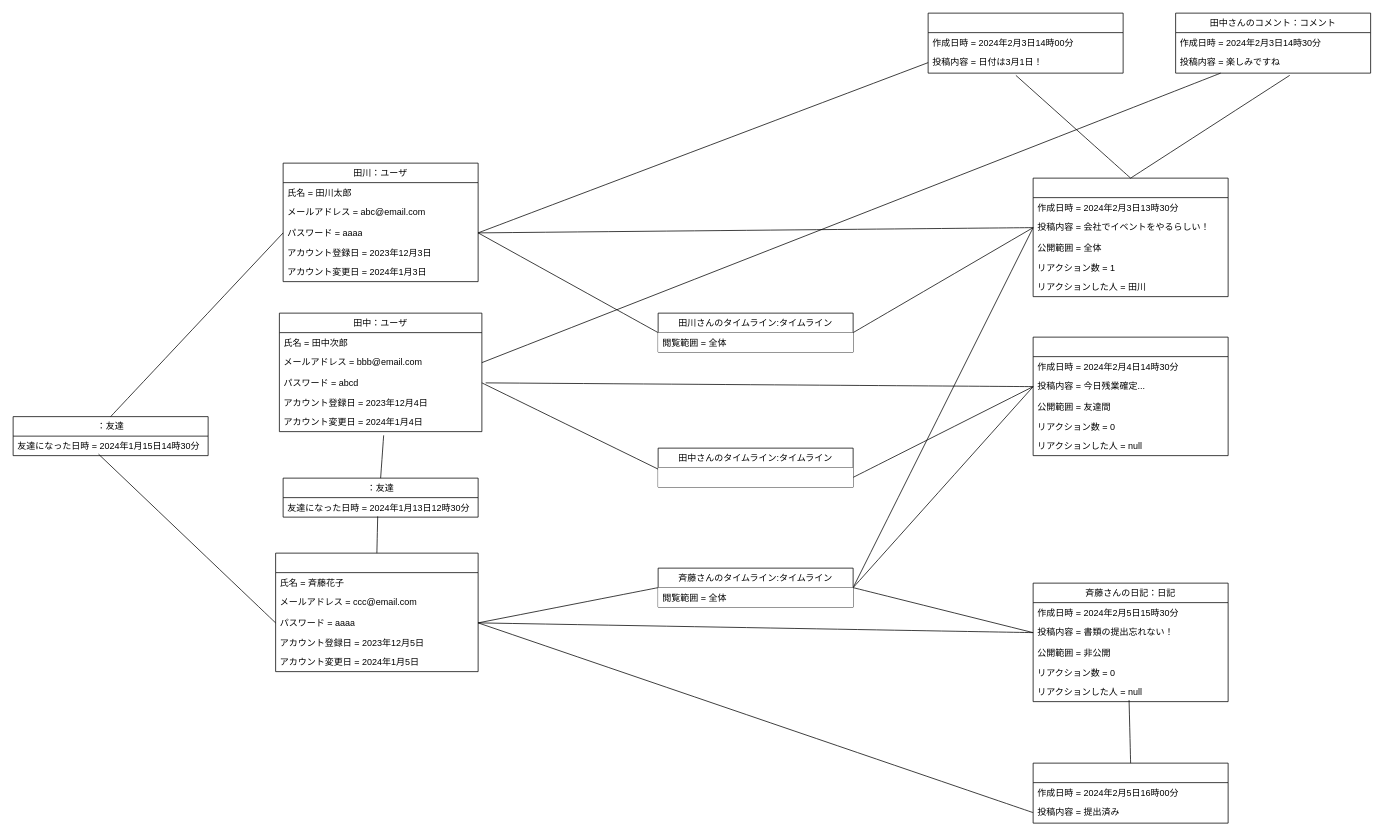
Image size: 1384x839. Some labels were removed from this diagram. Each missing label, with the box of its shape:
斉藤さんのコメント：コメント: (1032, 762, 1228, 823)
斉藤：ユーザ: (275, 552, 478, 672)
田中さんの日記：日記: (1032, 336, 1228, 456)
田川さんのコメント：コメント: (927, 12, 1123, 73)
田川さんの日記：日記: (1032, 177, 1228, 297)
閲覧範囲 = 友達間: (658, 467, 853, 487)
